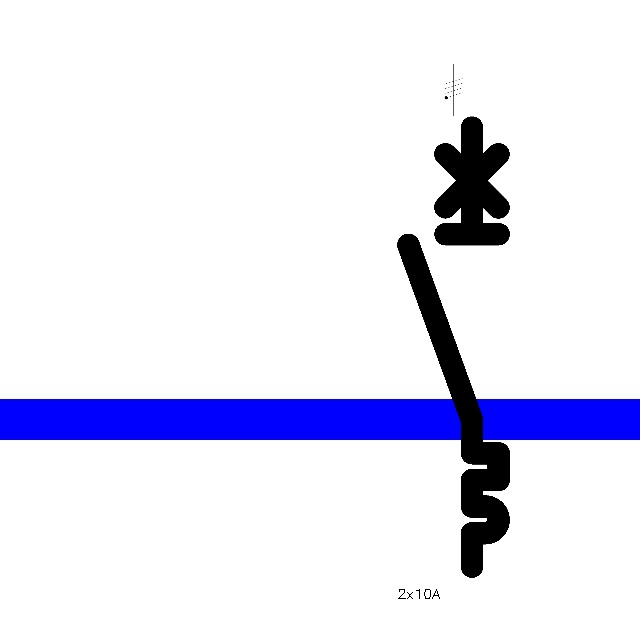interruptor_termomagnetico: (397, 116, 510, 578)
